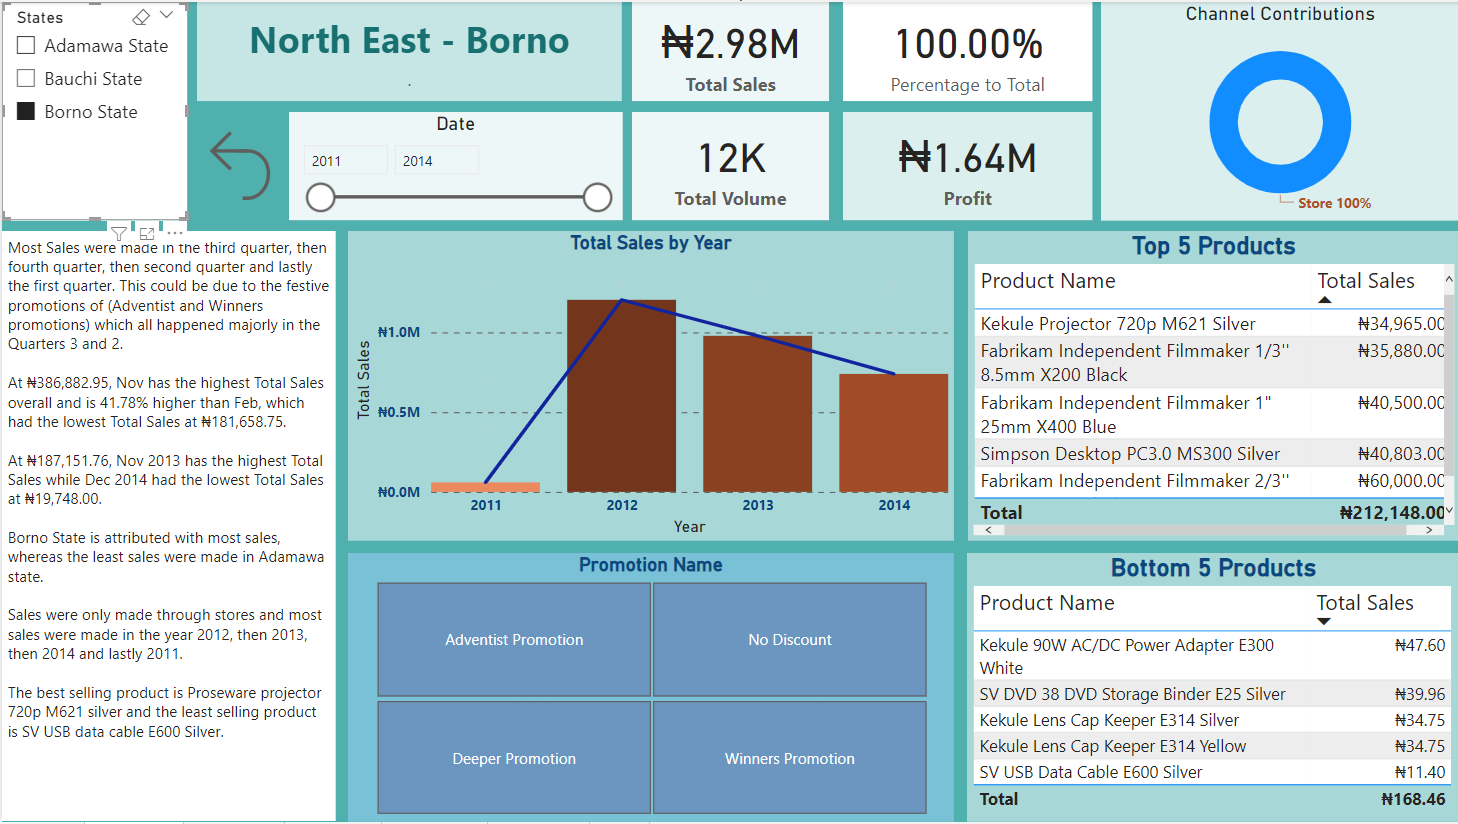

The dashboard page shown, as its layout file describes it:
{"tool":"powerbi","page":{"name":"North East","canvas":[1280,720],"ordinal":2},"visuals":[{"type":"card","fields":{"Values":["Measures (2).Total Sales"]},"box":[553.4,0,173.1,86.6],"z":0},{"type":"card","fields":{"Values":["Measures (2).Profit"]},"box":[738.2,96.3,218.8,95.3],"z":1000},{"type":"card","fields":{"Values":["Sum(Sales_Details.Order Qty)"]},"box":[553.4,96.3,173.1,95.3],"z":2000},{"type":"slicer","title":"Date","fields":{"Values":["DateKey.Year"]},"box":[251.9,96.3,292.8,95.3],"z":3000},{"type":"tableEx","title":"Top 5 Products","fields":{"Values":["Sales_Details.Product Name","Measures (2).Total Sales"]},"box":[848.1,201.3,431.9,272.3],"z":4000},{"type":"slicer","title":"Promotion Name","fields":{"Values":["Sales_Details.Promotion Name"]},"box":[303.5,483.4,532,236.4],"z":5000},{"type":"card","fields":{"Values":["Measures (2).Channel to Product Contribution"]},"box":[738.2,0,218.8,86.6],"z":6000},{"type":"donutChart","title":"Channel Contributions","fields":{"Y":["Measures (2).Total Sales"],"Category":["Sales_Details.Channel"]},"box":[964.9,0,315.1,191.6],"z":7000},{"type":"slicer","fields":{"Values":["Sales_Details.States"]},"box":[0,0,163.4,191.6],"z":8000},{"type":"lineStackedColumnComboChart","title":"Total Sales by Year","fields":{"Category":["DateKey.Year","DateKey.Month","DateKey.Quarters"],"Y":["Measures (2).Total Sales"],"Y2":["Measures (2).Total Sales"]},"box":[303.5,201.3,532,272.3],"z":9000},{"type":"tableEx","title":"Bottom 5 Products","fields":{"Values":["Sales_Details.Product Name","Measures (2).Total Sales"]},"box":[847.2,483.4,432.8,236.4],"z":10000},{"type":"textbox","box":[0,201.3,292.8,518.4],"z":11000},{"type":"actionButton","box":[171.4,95.9,75.6,95.9],"z":12000},{"type":"card","fields":{"Values":["Sales_Details.Title"]},"box":[171.2,0,373.5,86.6],"z":13000}]}

Visuals, with their boxes in screenshot pixels (x1, y1, x2, y2), scaled from the page's 1280x720 canvas onto the 1458x824 screenshot:
card - Measures (2).Total Sales: l=630, t=0, r=828, b=99
card - Measures (2).Profit: l=841, t=110, r=1090, b=219
card - Sum(Sales_Details.Order Qty): l=630, t=110, r=828, b=219
"Date" slicer: l=287, t=110, r=620, b=219
"Top 5 Products" tableEx: l=966, t=230, r=1457, b=542
"Promotion Name" slicer: l=346, t=553, r=952, b=823
card - Measures (2).Channel to Product Contribution: l=841, t=0, r=1090, b=99
"Channel Contributions" donutChart: l=1099, t=0, r=1457, b=219
slicer - Sales_Details.States: l=0, t=0, r=186, b=219
"Total Sales by Year" lineStackedColumnComboChart: l=346, t=230, r=952, b=542
"Bottom 5 Products" tableEx: l=965, t=553, r=1457, b=823
textbox: l=0, t=230, r=334, b=823
actionButton: l=195, t=110, r=281, b=220
card - Sales_Details.Title: l=195, t=0, r=620, b=99
